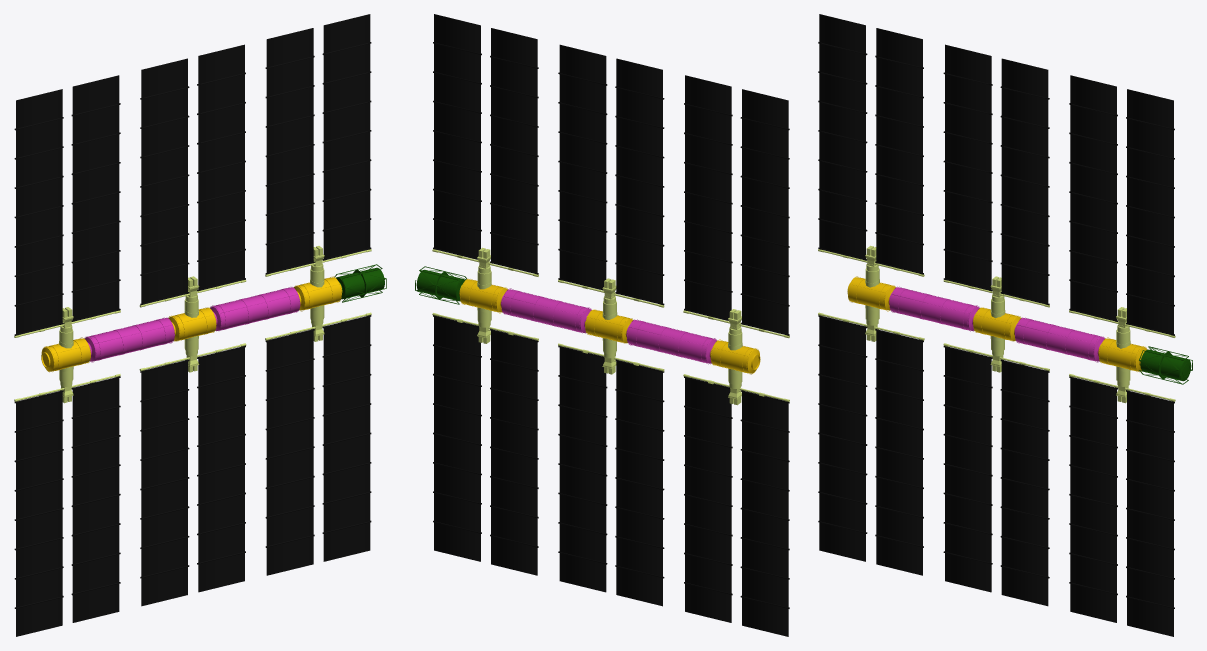
Rendered from ExteriorPieces.FBX.
3 renders of one model, left to right at view 1: azimuth 30°, elevation 25°; view 2: azimuth 150°, elevation 25°; view 3: azimuth 330°, elevation 25°, orthographic.
Visible parts, largest first — view 1: ExteriorPiece_Arm_005, ExteriorPiece_Arm_03, ExteriorPiece_Panel007, ExteriorPiece_Panel079, ExteriorPiece_Panel015, ExteriorPiece_Panel024, ExteriorPiece_Panel016, ExteriorPiece_Panel080, ExteriorPiece_Panel028, ExteriorPiece_Panel075, ExteriorPiece_Panel011, ExteriorPiece_Panel005 (+96 smaller); view 2: ExteriorPiece_Arm_005, ExteriorPiece_Arm_03, ExteriorPiece_Panel047, ExteriorPiece_Panel052, ExteriorPiece_Panel050, ExteriorPiece_Panel054, ExteriorPiece_Panel044, ExteriorPiece_Panel043, ExteriorPiece_Panel041, ExteriorPiece_Panel045, ExteriorPiece_Panel051, ExteriorPiece_Panel053 (+96 smaller); view 3: ExteriorPiece_Arm_03, ExteriorPiece_Arm_005, ExteriorPiece_Panel048, ExteriorPiece_Panel047, ExteriorPiece_Panel052, ExteriorPiece_Panel055, ExteriorPiece_Panel043, ExteriorPiece_Panel045, ExteriorPiece_Panel051, ExteriorPiece_Panel041, ExteriorPiece_Panel049, ExteriorPiece_Panel050 (+96 smaller).
Boxes of the visible parts, x1,y1,x2,y2 form: ExteriorPiece_Arm_005: (84, 317, 174, 362); ExteriorPiece_Arm_03: (210, 287, 300, 331); ExteriorPiece_Panel007: (265, 28, 314, 68); ExteriorPiece_Panel079: (71, 75, 120, 116); ExteriorPiece_Panel015: (322, 14, 371, 54); ExteriorPiece_Panel024: (265, 329, 314, 369); ExteriorPiece_Panel016: (322, 315, 371, 355); ExteriorPiece_Panel080: (71, 376, 120, 417); ExteriorPiece_Panel028: (265, 446, 314, 487); ExteriorPiece_Panel075: (71, 193, 120, 233); ExteriorPiece_Panel011: (322, 132, 371, 172); ExteriorPiece_Panel005: (265, 87, 314, 127); ExteriorPiece_Arm_005: (626, 319, 716, 364); ExteriorPiece_Arm_03: (501, 288, 591, 333); ExteriorPiece_Panel047: (558, 44, 607, 85); ExteriorPiece_Panel052: (558, 463, 607, 504); ExteriorPiece_Panel050: (558, 404, 607, 445); ExteriorPiece_Panel054: (558, 522, 607, 562); ExteriorPiece_Panel044: (558, 133, 607, 173); ExteriorPiece_Panel043: (558, 162, 607, 203); ExteriorPiece_Panel041: (558, 221, 607, 261); ExteriorPiece_Panel045: (558, 104, 607, 144); ExteriorPiece_Panel051: (558, 434, 607, 474); ExteriorPiece_Panel053: (558, 492, 607, 533); ExteriorPiece_Arm_03: (1014, 317, 1105, 362); ExteriorPiece_Arm_005: (889, 286, 979, 331); ExteriorPiece_Panel048: (1000, 359, 1049, 400); ExteriorPiece_Panel047: (1000, 58, 1049, 99); ExteriorPiece_Panel052: (1000, 477, 1049, 517); ExteriorPiece_Panel055: (1000, 565, 1049, 606); ExteriorPiece_Panel043: (1000, 176, 1049, 216); ExteriorPiece_Panel045: (1000, 117, 1049, 158); ExteriorPiece_Panel051: (1000, 447, 1049, 488); ExteriorPiece_Panel041: (1000, 235, 1049, 275); ExteriorPiece_Panel049: (1000, 389, 1049, 429); ExteriorPiece_Panel050: (1000, 418, 1049, 459).
Bounding box in the file's own units: 8646 × 556 × 12088.
